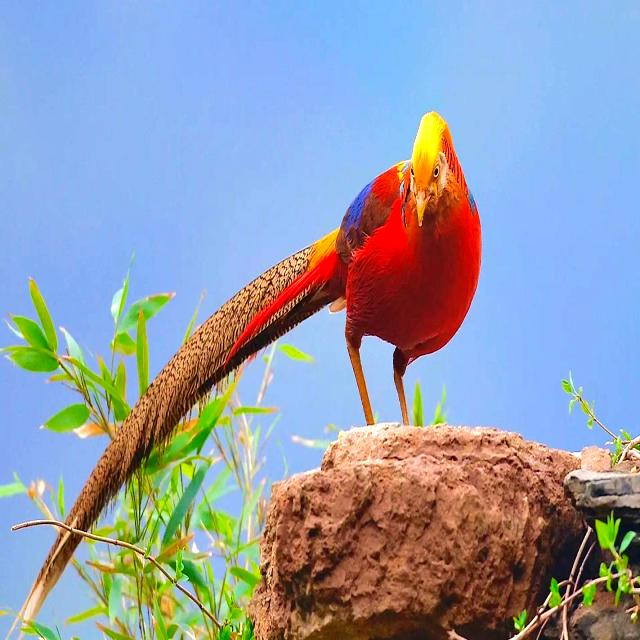Chrysolophus pictus feather: (5, 242, 328, 640)
